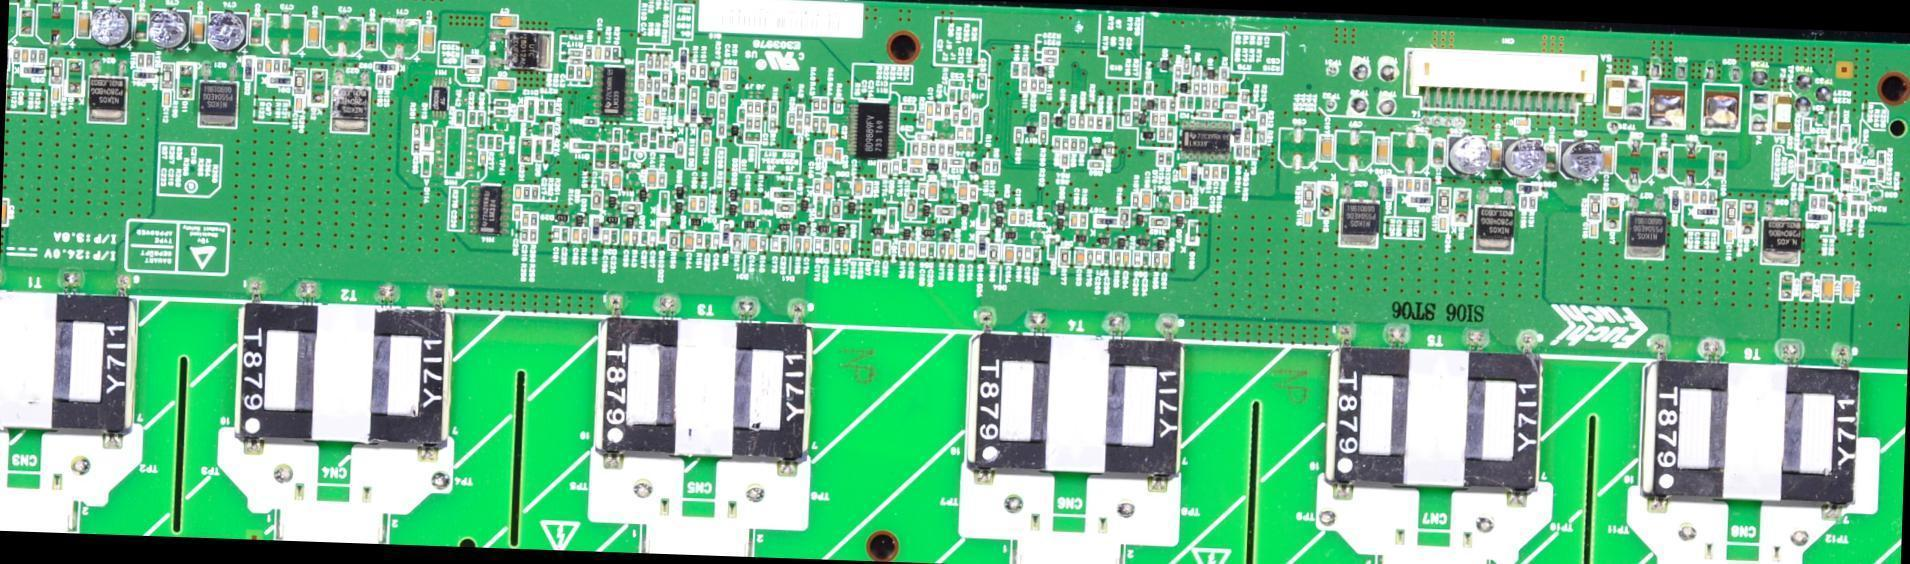Capacitor: (1449, 136, 1488, 172), (1563, 143, 1600, 178), (94, 6, 129, 43), (151, 11, 186, 47), (1511, 143, 1547, 177), (209, 12, 244, 45), (491, 14, 522, 29), (305, 20, 320, 47), (1376, 137, 1391, 163), (76, 10, 89, 38), (421, 26, 435, 52), (192, 17, 206, 43), (1321, 132, 1333, 160), (1839, 278, 1853, 302), (491, 76, 513, 90), (136, 12, 148, 40), (1489, 142, 1499, 167), (1600, 147, 1612, 170), (1821, 277, 1832, 300), (1170, 191, 1182, 211), (824, 140, 834, 158), (1004, 243, 1015, 261), (2, 198, 10, 225), (462, 66, 481, 75), (612, 172, 622, 189), (646, 169, 655, 186), (1141, 190, 1151, 207), (1031, 247, 1041, 262), (684, 233, 694, 249), (745, 131, 759, 142), (1076, 248, 1085, 263), (294, 96, 302, 112), (702, 130, 710, 146), (747, 236, 757, 250), (977, 75, 985, 90), (162, 90, 170, 105), (1405, 177, 1413, 191), (958, 184, 966, 199), (928, 184, 937, 199), (1588, 222, 1596, 239), (1123, 252, 1130, 269), (1009, 210, 1016, 225), (713, 233, 720, 248), (52, 88, 60, 102), (824, 178, 831, 193), (1070, 212, 1077, 227), (572, 226, 580, 241), (772, 235, 780, 250), (1095, 251, 1102, 266), (662, 56, 669, 69), (465, 109, 472, 124), (1304, 210, 1311, 225), (1142, 250, 1148, 269), (853, 181, 861, 192), (830, 123, 836, 138), (816, 143, 822, 157), (1180, 166, 1187, 180), (874, 240, 881, 254), (780, 237, 786, 252), (966, 245, 972, 260), (947, 245, 953, 260), (1025, 247, 1030, 262), (1132, 251, 1138, 266), (1103, 251, 1109, 266), (1163, 254, 1169, 269), (264, 59, 270, 72), (1212, 167, 1218, 180), (1693, 190, 1699, 204), (552, 226, 558, 240), (802, 238, 808, 251), (842, 240, 848, 253), (907, 242, 913, 256), (744, 200, 751, 211), (514, 183, 519, 198), (602, 226, 607, 243), (585, 66, 591, 78), (689, 198, 696, 211), (919, 244, 924, 256), (928, 244, 934, 256), (594, 47, 601, 59), (1514, 119, 1525, 125), (640, 232, 645, 243), (624, 231, 630, 243), (927, 101, 932, 115), (1726, 229, 1731, 242), (649, 231, 654, 245), (958, 245, 962, 258), (951, 79, 961, 85), (797, 122, 801, 134), (911, 158, 921, 164), (902, 160, 906, 172), (521, 230, 526, 241), (724, 67, 727, 80), (23, 48, 27, 61), (1440, 218, 1444, 230), (646, 95, 650, 104), (646, 110, 649, 121), (815, 238, 819, 249)
IC: (853, 110, 890, 153), (1183, 126, 1228, 152), (477, 188, 498, 227), (604, 69, 620, 112), (433, 88, 446, 107)
Resistor: (159, 62, 173, 89), (50, 58, 62, 84), (1724, 199, 1735, 225), (294, 69, 306, 92), (1438, 189, 1451, 212), (130, 70, 156, 80), (1587, 195, 1599, 216), (1057, 249, 1069, 268), (1120, 208, 1132, 227), (591, 188, 600, 209), (830, 200, 843, 216), (987, 244, 998, 262), (1303, 182, 1312, 205), (668, 231, 678, 248), (731, 236, 742, 252), (584, 116, 601, 125), (1856, 166, 1874, 175), (815, 197, 824, 216), (38, 48, 47, 63), (135, 52, 145, 68), (905, 200, 913, 217), (936, 207, 953, 216), (758, 236, 767, 251), (623, 204, 638, 212), (1841, 196, 1847, 217), (1194, 65, 1202, 79), (145, 52, 154, 67), (983, 160, 990, 177), (511, 203, 520, 218), (1194, 82, 1201, 97), (547, 99, 554, 114), (1079, 214, 1086, 230), (1829, 112, 1838, 125), (721, 83, 735, 91), (1171, 100, 1179, 113), (383, 74, 391, 88), (1104, 143, 1112, 156), (1842, 165, 1848, 183), (918, 180, 924, 198), (835, 98, 842, 112), (486, 134, 493, 149), (1202, 165, 1209, 179), (962, 104, 969, 120), (456, 111, 464, 123), (1090, 162, 1103, 171), (1850, 200, 1857, 217), (614, 129, 621, 142), (545, 123, 551, 139), (1114, 250, 1121, 265), (1067, 114, 1075, 126), (256, 59, 262, 73), (377, 74, 383, 89), (1226, 113, 1237, 120), (707, 93, 713, 107), (880, 158, 886, 173), (1130, 191, 1136, 206), (1153, 218, 1166, 225), (1018, 211, 1025, 225), (581, 227, 587, 241), (1016, 245, 1022, 260), (796, 238, 801, 252), (1184, 59, 1190, 73), (1079, 114, 1084, 131), (1087, 115, 1092, 132), (1046, 48, 1056, 56), (1220, 67, 1227, 81), (569, 50, 582, 56), (1012, 62, 1018, 76), (729, 67, 735, 80), (14, 47, 19, 61), (1242, 145, 1248, 158), (657, 134, 663, 147), (622, 145, 628, 158), (496, 108, 507, 116), (1682, 191, 1689, 202), (864, 183, 871, 194), (1070, 138, 1074, 153), (1222, 166, 1227, 181), (1153, 251, 1159, 267), (585, 46, 591, 59), (604, 48, 610, 60), (1212, 82, 1218, 94), (1201, 83, 1207, 95), (273, 59, 279, 71), (679, 89, 684, 101), (718, 94, 724, 106), (1260, 114, 1266, 127), (936, 103, 942, 116), (1817, 135, 1823, 147), (718, 108, 723, 121), (1878, 167, 1884, 179), (951, 160, 964, 166), (1699, 190, 1705, 202), (697, 233, 703, 245), (30, 48, 35, 62), (282, 59, 288, 73), (1803, 117, 1808, 131), (1200, 109, 1210, 116), (948, 144, 953, 158), (991, 159, 997, 174), (479, 152, 486, 162), (835, 239, 839, 253), (1087, 249, 1092, 263), (797, 106, 803, 117), (497, 100, 508, 106), (926, 118, 932, 129), (804, 113, 810, 124), (918, 134, 929, 140), (531, 188, 537, 199), (1044, 57, 1055, 63), (568, 66, 572, 79), (953, 111, 957, 124), (972, 112, 977, 126), (538, 101, 543, 115), (1259, 129, 1264, 143), (958, 128, 962, 141), (913, 141, 919, 155), (939, 143, 944, 156), (415, 125, 420, 139), (1810, 196, 1815, 209), (699, 197, 704, 211), (532, 213, 537, 226), (571, 59, 583, 63), (1222, 85, 1227, 98), (1243, 91, 1247, 103), (1206, 99, 1212, 109), (662, 87, 666, 99), (1040, 114, 1045, 127), (1849, 151, 1854, 163), (820, 118, 825, 130), (814, 118, 818, 130), (476, 112, 481, 124), (1054, 138, 1058, 150), (1798, 167, 1803, 179), (1862, 181, 1868, 191), (496, 137, 501, 149), (679, 144, 683, 156), (1415, 179, 1420, 191), (1520, 197, 1525, 209), (522, 186, 528, 199), (753, 200, 758, 212), (522, 213, 528, 225), (614, 47, 619, 59), (1040, 80, 1045, 91), (577, 68, 582, 79), (1188, 97, 1192, 108), (1226, 104, 1236, 108), (1161, 98, 1165, 112), (670, 87, 675, 98), (691, 90, 696, 101), (754, 102, 759, 113), (770, 104, 775, 114), (917, 114, 922, 126), (1879, 152, 1884, 163), (747, 116, 751, 127), (1016, 128, 1020, 142), (719, 123, 723, 134), (1079, 138, 1083, 152), (1064, 138, 1067, 152), (931, 142, 935, 154), (1062, 155, 1067, 166), (412, 145, 419, 152), (634, 232, 638, 242), (900, 240, 904, 254), (940, 243, 944, 257), (546, 144, 552, 152), (699, 65, 703, 78), (1179, 95, 1183, 108), (647, 79, 651, 92), (1105, 116, 1109, 129), (1839, 151, 1843, 164), (642, 134, 646, 147), (1424, 179, 1428, 192), (1829, 130, 1834, 140), (814, 99, 818, 109), (1800, 153, 1805, 163), (1824, 178, 1828, 187), (1708, 192, 1713, 202), (912, 167, 922, 172), (1819, 197, 1824, 207), (603, 173, 608, 183), (639, 63, 643, 75), (691, 64, 694, 77), (1160, 114, 1166, 122), (1245, 128, 1249, 140), (1168, 129, 1172, 141), (479, 135, 482, 147), (531, 230, 535, 242), (1176, 68, 1180, 77), (1023, 82, 1028, 90), (680, 74, 685, 83), (771, 120, 776, 129), (966, 129, 971, 138), (1529, 198, 1534, 207), (656, 57, 660, 68), (1033, 81, 1037, 91), (639, 79, 643, 90), (821, 99, 825, 110), (764, 102, 767, 113), (755, 118, 759, 129), (1041, 132, 1045, 143), (1808, 159, 1811, 171), (667, 136, 671, 148), (659, 174, 663, 185), (1022, 65, 1025, 79), (950, 90, 954, 100), (1153, 114, 1158, 122), (1097, 115, 1100, 129), (1159, 152, 1162, 162), (1399, 180, 1403, 188), (894, 161, 897, 174), (664, 72, 668, 81), (963, 90, 967, 99), (655, 80, 659, 89), (1167, 151, 1171, 160), (749, 100, 752, 112), (1161, 128, 1163, 140), (922, 143, 925, 154), (1817, 176, 1820, 186), (1862, 204, 1865, 215), (648, 57, 651, 67), (1214, 99, 1217, 108), (1252, 109, 1255, 118), (945, 105, 948, 115), (1831, 148, 1833, 157), (1252, 148, 1255, 157), (790, 113, 792, 126)
Transistor: (92, 80, 124, 120), (335, 90, 365, 131), (509, 35, 545, 66), (1482, 210, 1508, 248), (1766, 224, 1796, 256), (204, 87, 229, 119), (1633, 213, 1657, 247), (1345, 204, 1368, 234), (1025, 125, 1034, 136), (971, 158, 978, 169), (927, 162, 936, 171), (1145, 99, 1153, 106), (1092, 145, 1099, 154), (1163, 59, 1168, 71), (1206, 68, 1212, 77), (1056, 114, 1062, 123), (706, 117, 712, 125), (729, 125, 736, 132), (709, 79, 718, 84), (1179, 83, 1185, 89), (1144, 131, 1151, 137), (960, 205, 965, 212)
